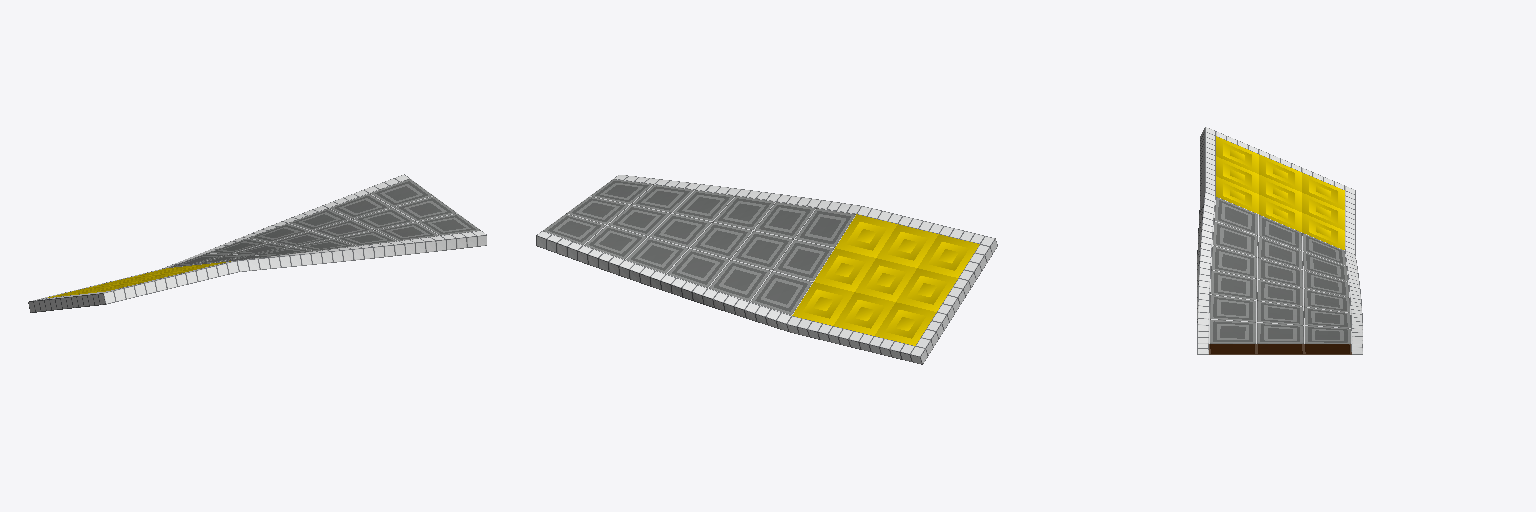
The picture shows the model from 3 angles: view 1: azimuth 30°, elevation 25°; view 2: azimuth 150°, elevation 25°; view 3: azimuth 270°, elevation 25°; orthographic projection.
Parts seen in each view (by area): view 1: Cube.001_Cube; view 2: Cube.001_Cube; view 3: Cube.001_Cube.
Boxes of the visible parts, box(x1,y1,x2,y2) form: Cube.001_Cube: box(28, 174, 486, 312); Cube.001_Cube: box(536, 175, 997, 364); Cube.001_Cube: box(1197, 127, 1362, 354).
Bounding box in the file's own units: 18.5 × 3.41 × 7.04.
4 materials, 4 textured.